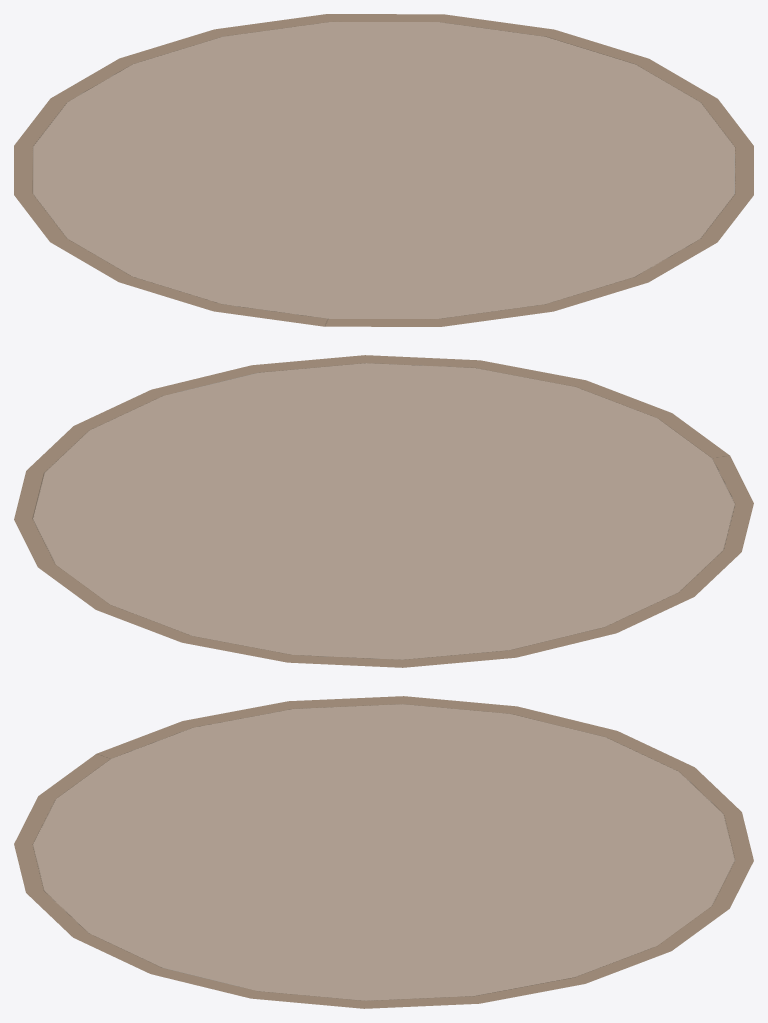
The model's file is plate.fbx.
The picture shows the model from 3 angles, top to bottom: view 1: azimuth 30°, elevation 25°; view 2: azimuth 150°, elevation 25°; view 3: azimuth 270°, elevation 25°; orthographic projection.
Parts seen in each view (by area): view 1: Basket1.001; view 2: Basket1.001; view 3: Basket1.001.
Boxes of the visible parts, x1,y1,x2,y2 form: Basket1.001: (14, 14, 753, 326); Basket1.001: (14, 355, 753, 667); Basket1.001: (14, 696, 753, 1008).
Size of the model in its own units: 2.58 by 0.2039 by 2.58.
